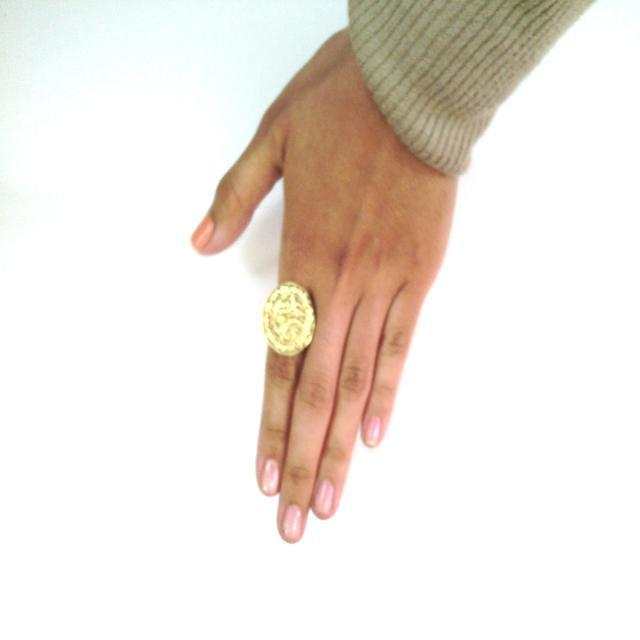Fingernail: (192, 216, 214, 249), (313, 480, 333, 516), (282, 504, 302, 538), (263, 460, 279, 493), (364, 416, 380, 446)
